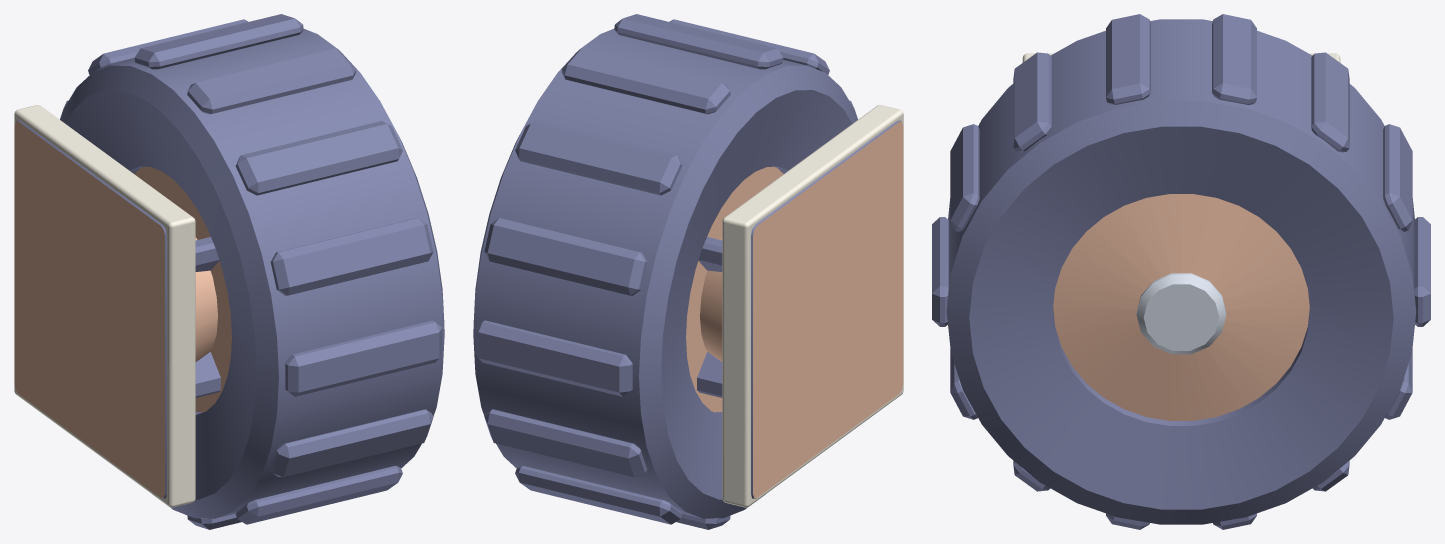
Rendered from R4M_WheelM_Side_Offroad.fbx.
3 views of the same model, side by side, from view 1: azimuth 30°, elevation 25°; view 2: azimuth 150°, elevation 25°; view 3: azimuth 270°, elevation 25° (orthographic).
Visible parts, largest first — view 1: R4M_WheelM_Side_Offroad_Rotor, R4M_WheelM_Side_Offroad_Mount; view 2: R4M_WheelM_Side_Offroad_Rotor, R4M_WheelM_Side_Offroad_Mount; view 3: R4M_WheelM_Side_Offroad_Rotor.
Part boxes in pixels (x1,y1,x2,y2): R4M_WheelM_Side_Offroad_Rotor: (60, 14, 444, 529); R4M_WheelM_Side_Offroad_Mount: (14, 105, 220, 507); R4M_WheelM_Side_Offroad_Rotor: (473, 14, 857, 529); R4M_WheelM_Side_Offroad_Mount: (697, 105, 903, 507); R4M_WheelM_Side_Offroad_Rotor: (932, 14, 1430, 529).
Size of the model in its own units: 0.452 by 0.7665 by 0.776.
